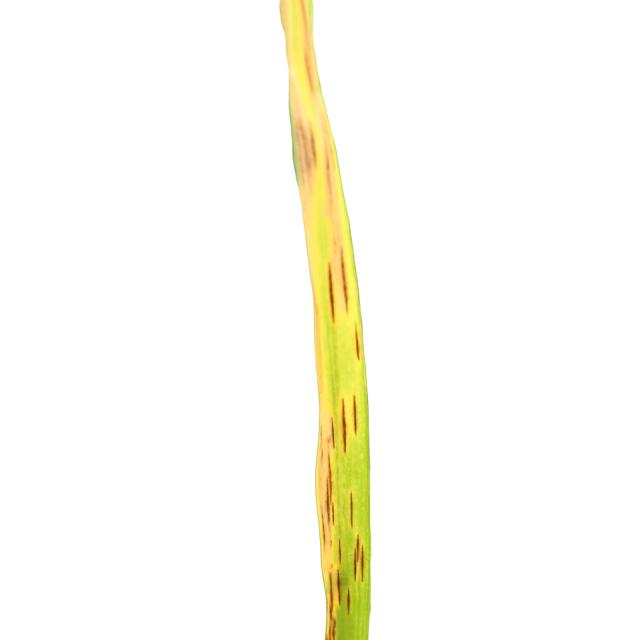Narrow brown: (170, 0, 524, 640)
